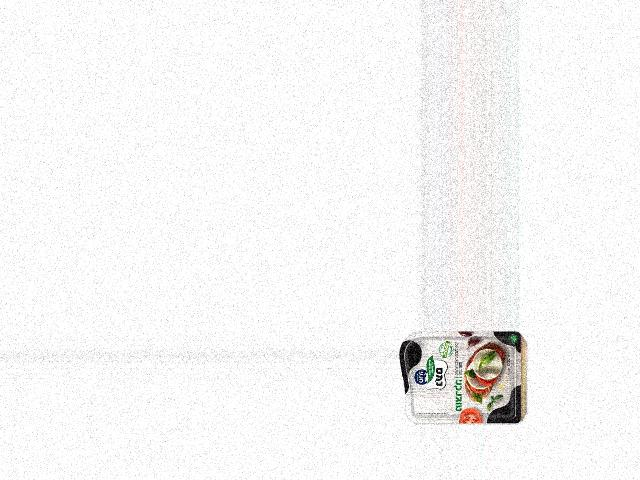cheese: (401, 331, 522, 425)
